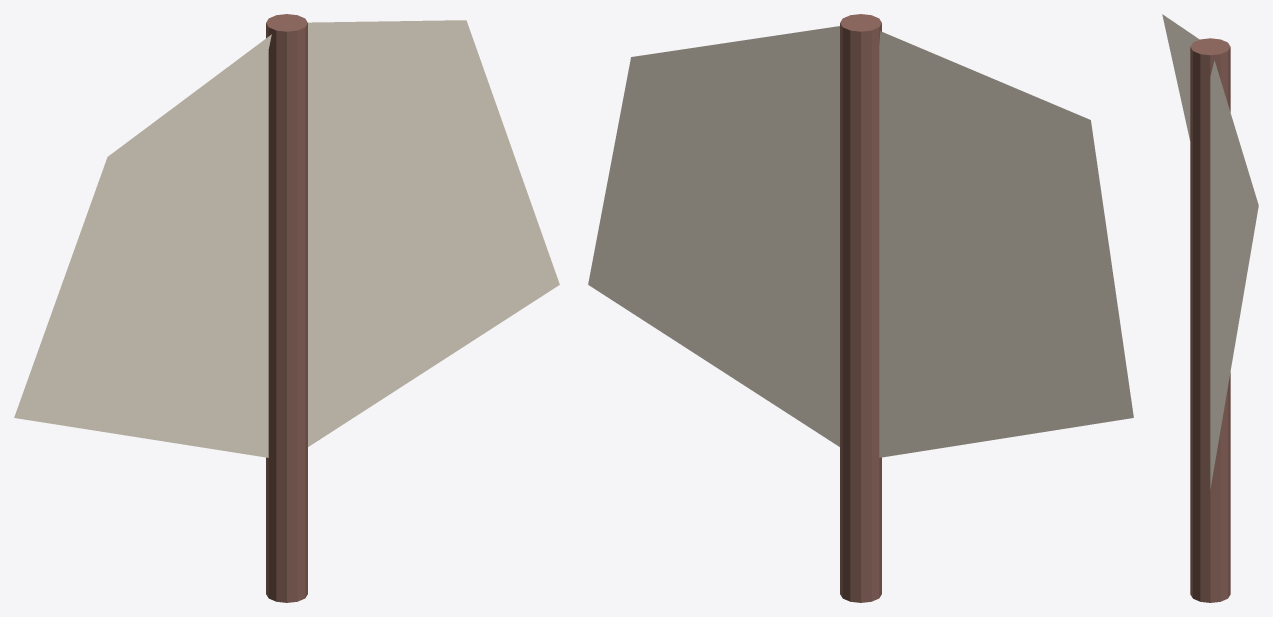
File: sail.glb
The picture shows the model from 3 angles, left to right: view 1: azimuth 30°, elevation 25°; view 2: azimuth 150°, elevation 25°; view 3: azimuth 270°, elevation 25°; orthographic projection. The views are drawn at different scales.
Parts seen in each view (by area): view 1: Accessory sail, Sail mast; view 2: Accessory sail, Sail mast; view 3: Sail mast, Accessory sail.
Part boxes in pixels (left/top/right/bottom): Accessory sail: left=14, top=20, right=559, bottom=457; Sail mast: left=266, top=14, right=307, bottom=602; Accessory sail: left=588, top=26, right=1133, bottom=457; Sail mast: left=840, top=14, right=881, bottom=602; Sail mast: left=1190, top=38, right=1230, bottom=602; Accessory sail: left=1162, top=14, right=1258, bottom=488.
Bounding box in the file's own units: 1.5 × 1.5 × 0.24.
